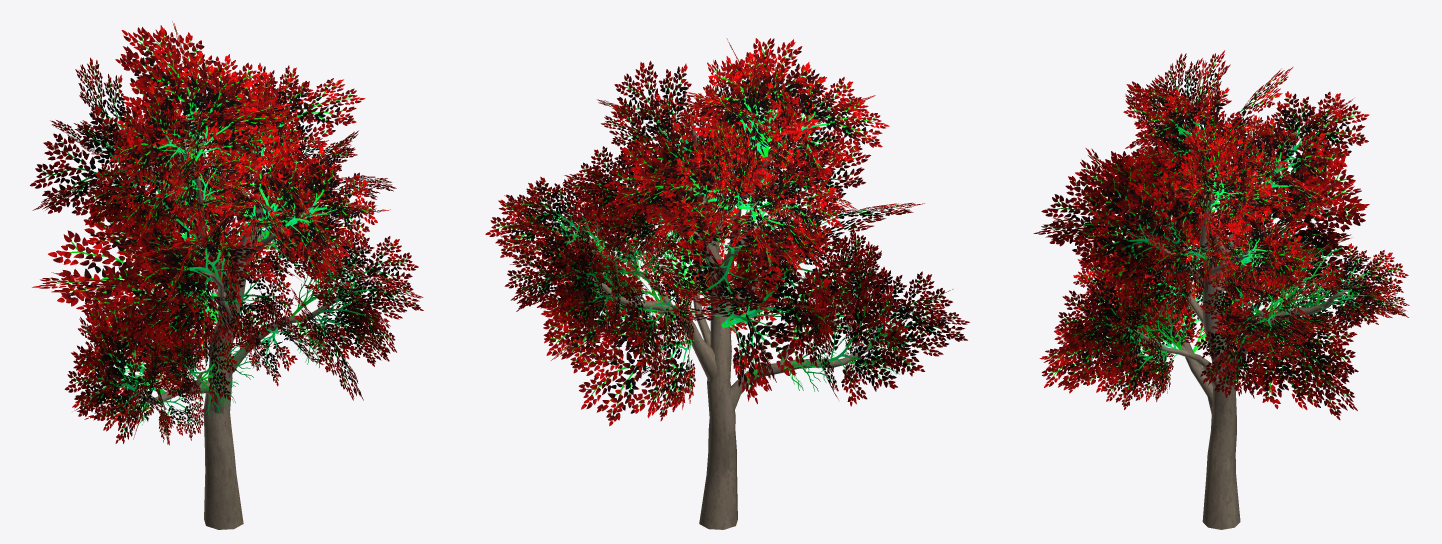
The model's file is SM_Tree_Large_01.fbx.
The picture shows the model from 3 angles, left to right: view 1: azimuth 30°, elevation 25°; view 2: azimuth 150°, elevation 25°; view 3: azimuth 270°, elevation 25°; orthographic projection. The views are drawn at different scales.
Visible parts, largest first — view 1: SM_Tree_Large_01_LOD0; view 2: SM_Tree_Large_01_LOD0; view 3: SM_Tree_Large_01_LOD0.
Boxes of the visible parts, x1,y1,x2,y2 form: SM_Tree_Large_01_LOD0: [30, 21, 423, 529]; SM_Tree_Large_01_LOD0: [485, 38, 969, 529]; SM_Tree_Large_01_LOD0: [1033, 50, 1409, 529].
Size of what is drawn, in the model's own units: 1537 by 1798 by 1390.
